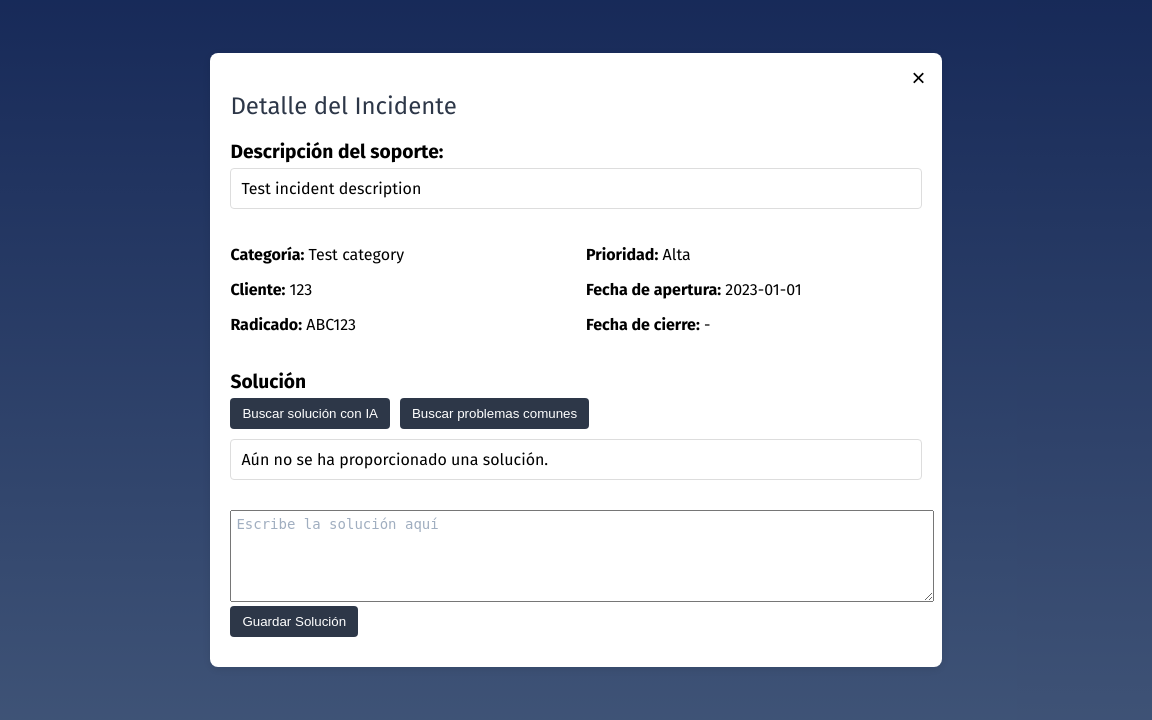
Test: DetailIncidentModal › shows error message when IA solution fetch fails
Click the button "Buscar solución con IA" at {"x": 310, "y": 414}, box [230,398,390,430]
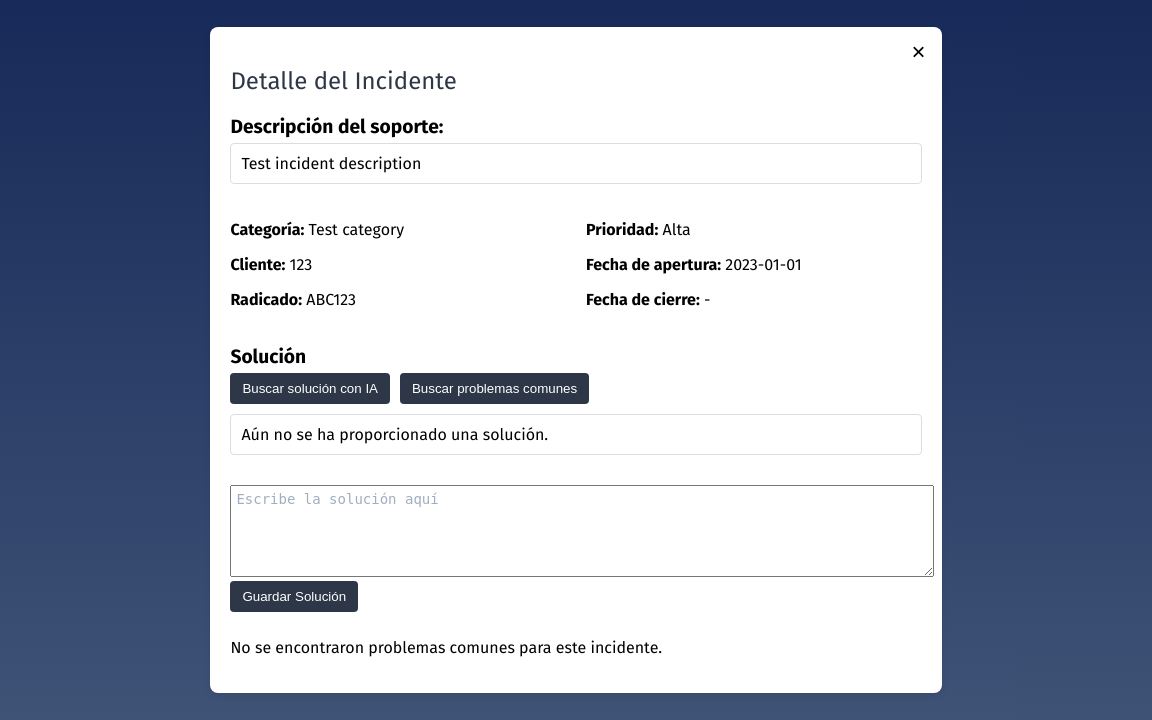
Result: the text "No se encontraron problemas comunes para este incidente." is shown at [230,638,662,657]
